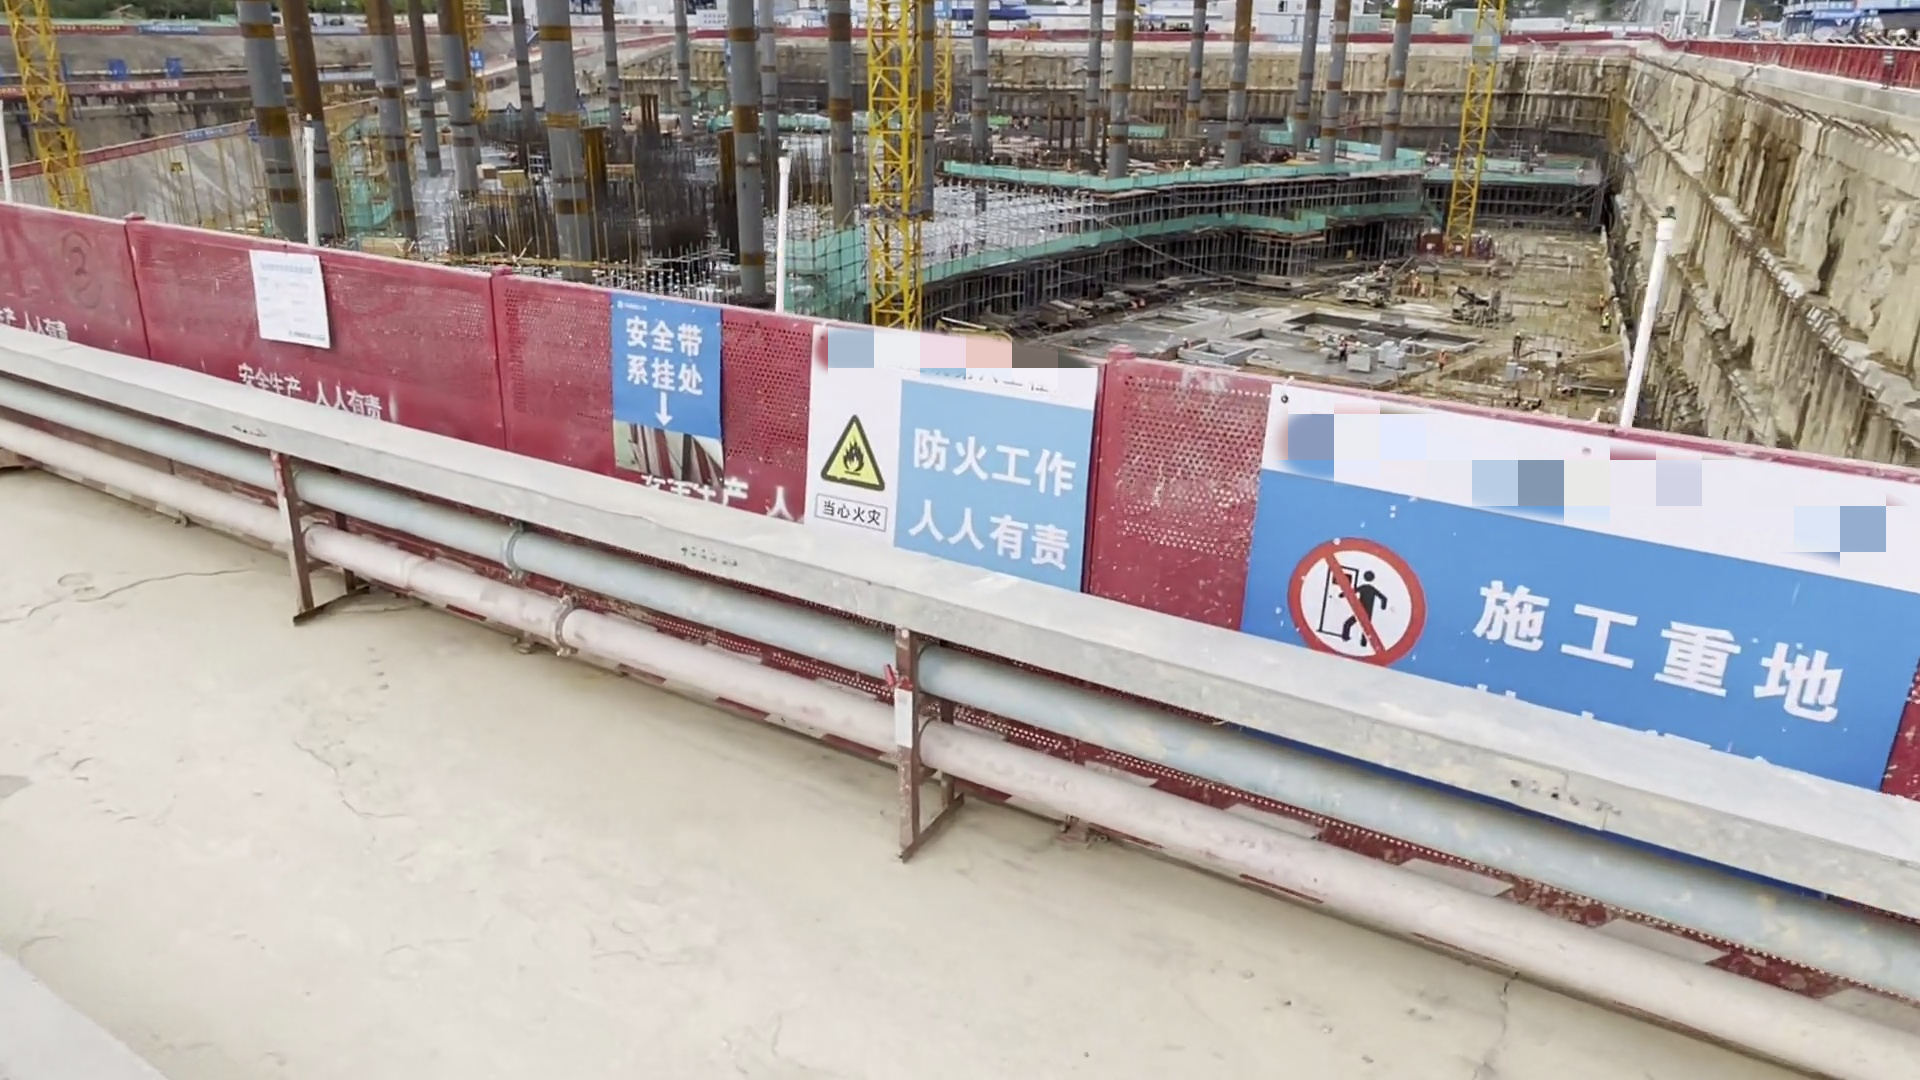brick: (1379, 341, 1405, 368), (1347, 354, 1374, 371)
fence: (1094, 367, 1920, 778), (501, 280, 1069, 691), (7, 204, 501, 462)
person: (1437, 347, 1447, 371), (1601, 312, 1611, 330), (1339, 336, 1347, 357), (1514, 331, 1521, 352), (1600, 293, 1608, 310)
slogan: (1242, 392, 1911, 774), (805, 333, 1092, 588), (606, 291, 719, 454), (1783, 1, 1857, 24), (95, 78, 180, 95), (186, 127, 231, 142), (143, 24, 202, 36), (50, 25, 124, 32), (465, 48, 482, 68), (1, 85, 30, 95)
